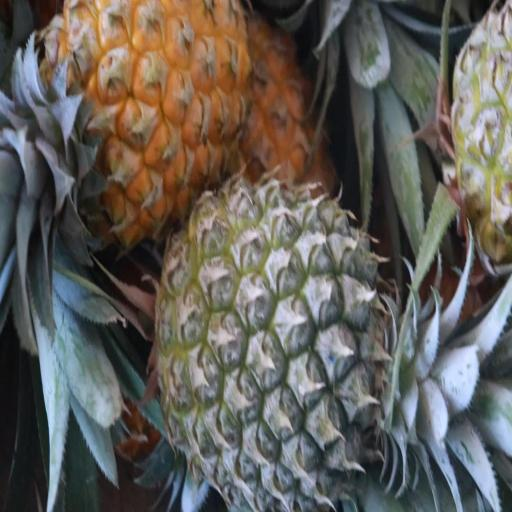Pineapple - v8 v1: (54, 0, 251, 240)
